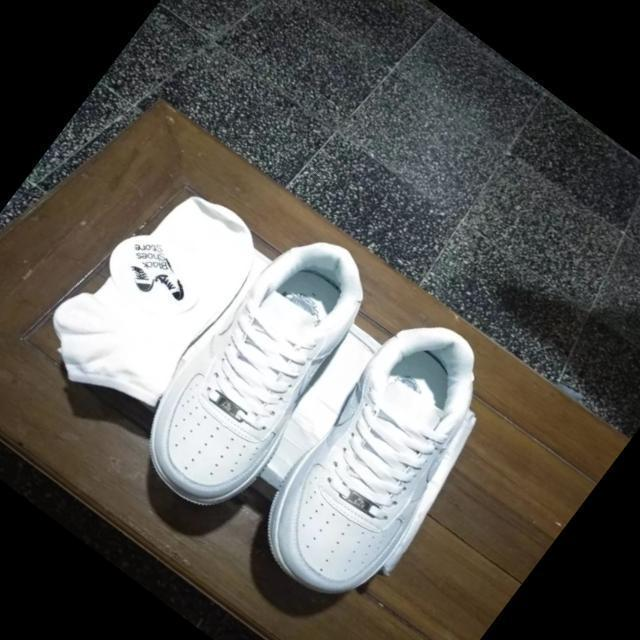nike fake air force: (232, 299, 525, 622), (114, 210, 400, 530)
